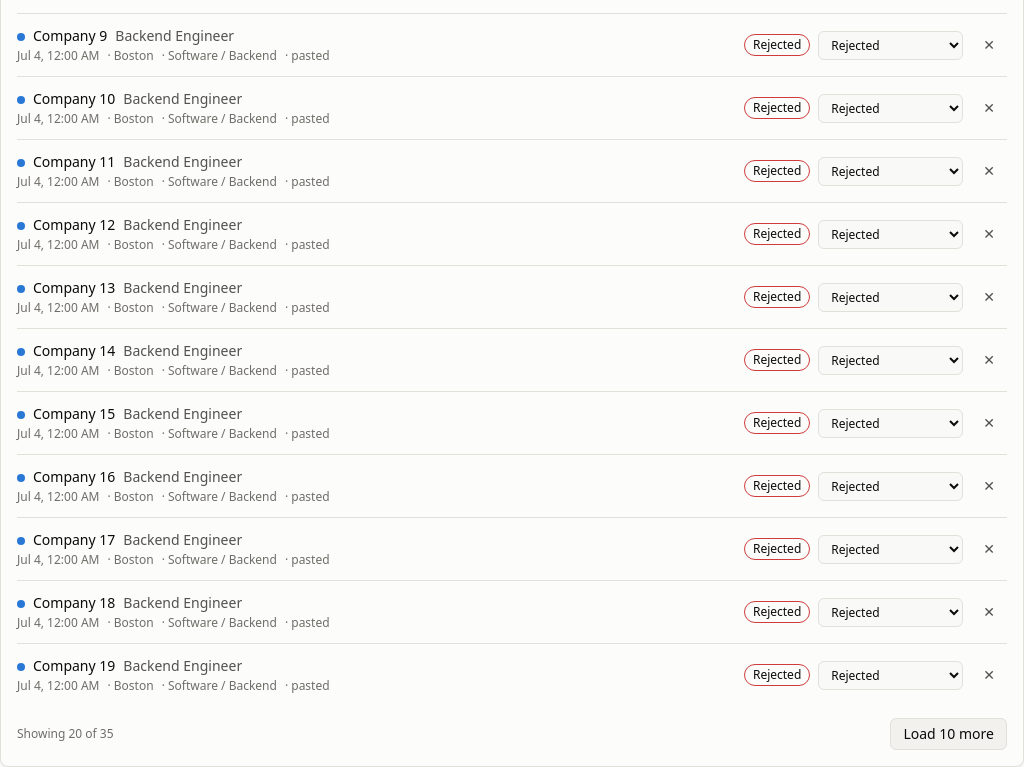
Scenario: applications › collapses ten at a time, no further than the twenty it opened with
(page scrolled)
Expected: the text "Showing 20 of 35" is shown, [17,726,114,742]
Click the button "Load 10 more" at (949, 734), box [890,718,1007,750]
(page scrolled)
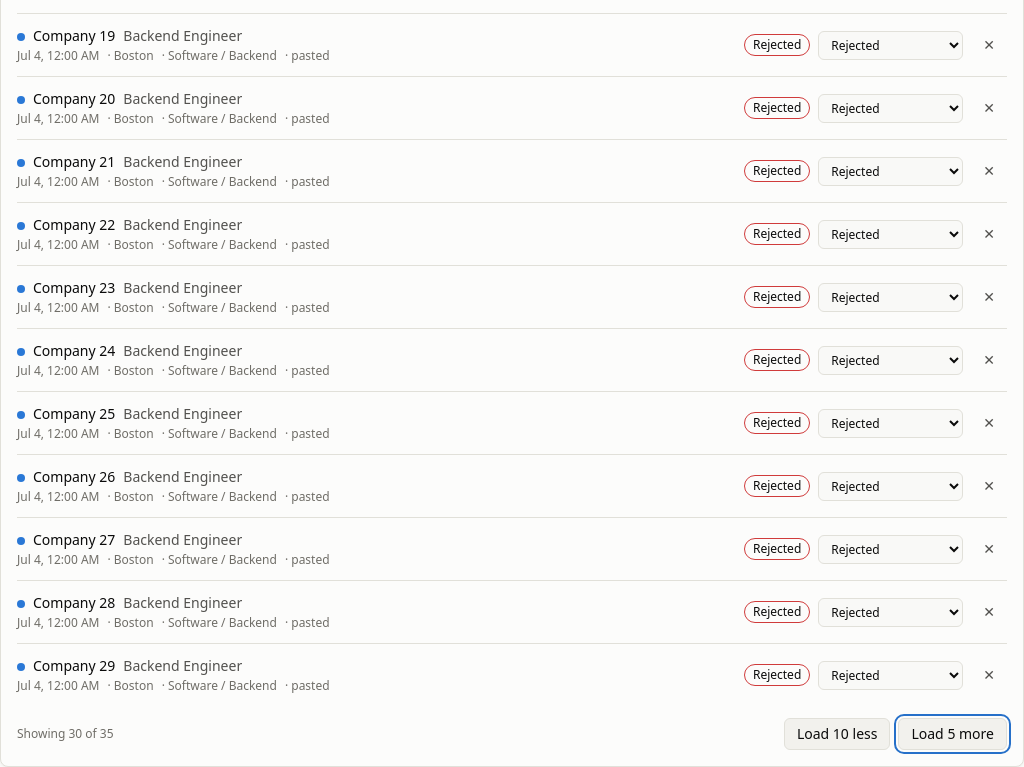
Click the button "Load 5 more" at (953, 734), box [898,718,1007,750]
(page scrolled)
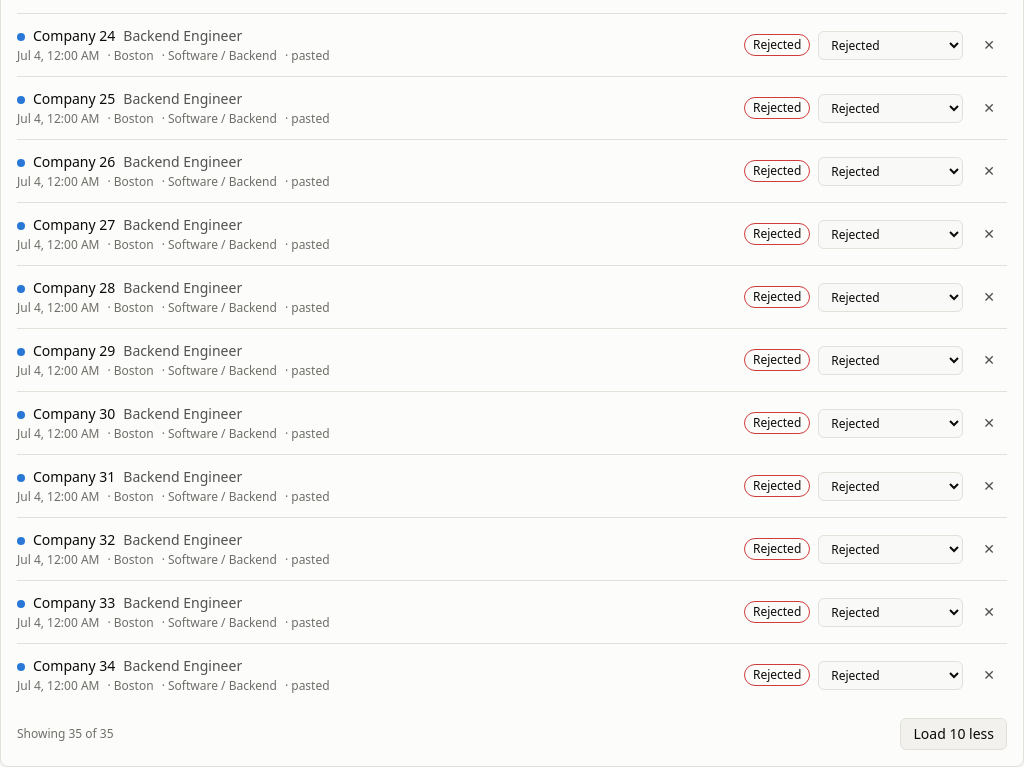
Click the button "Load 10 less" at (954, 734), box [900,718,1007,750]
(page scrolled)
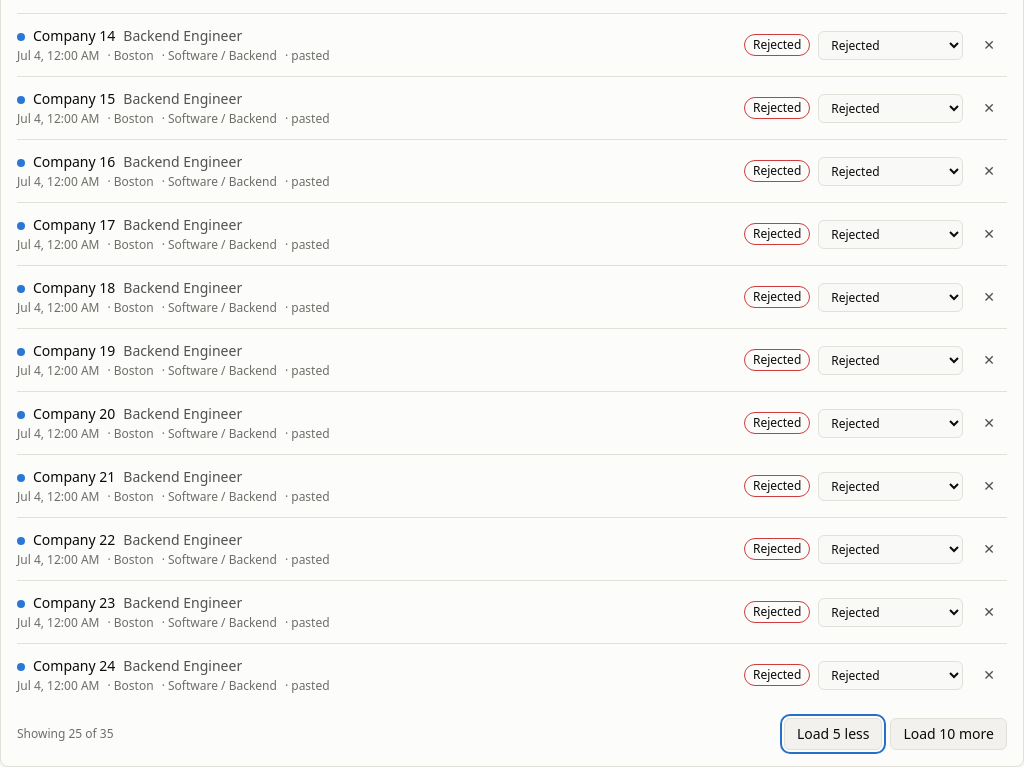
Five left above the floor, and the label says five rather than ten.
Click the button "Load 5 less" at (833, 734), box [784,718,882,750]
(page scrolled)
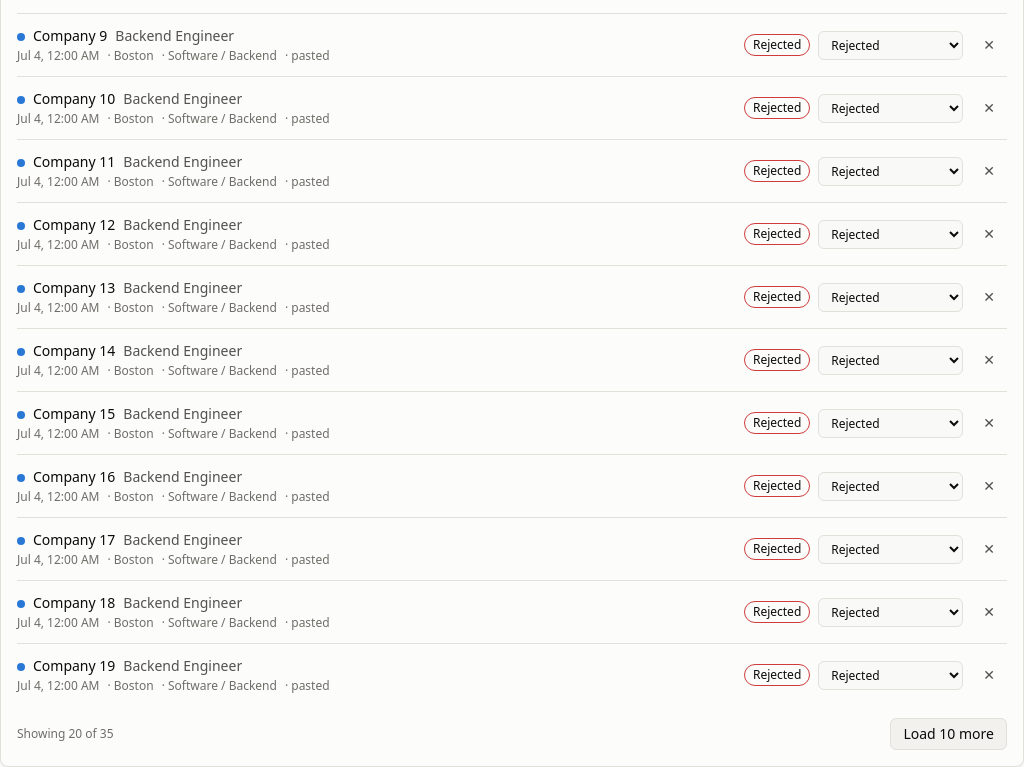
Expected: the text "Showing 20 of 35" is shown, [17,726,114,742]
Expected: the button "Load 5 less" is gone
